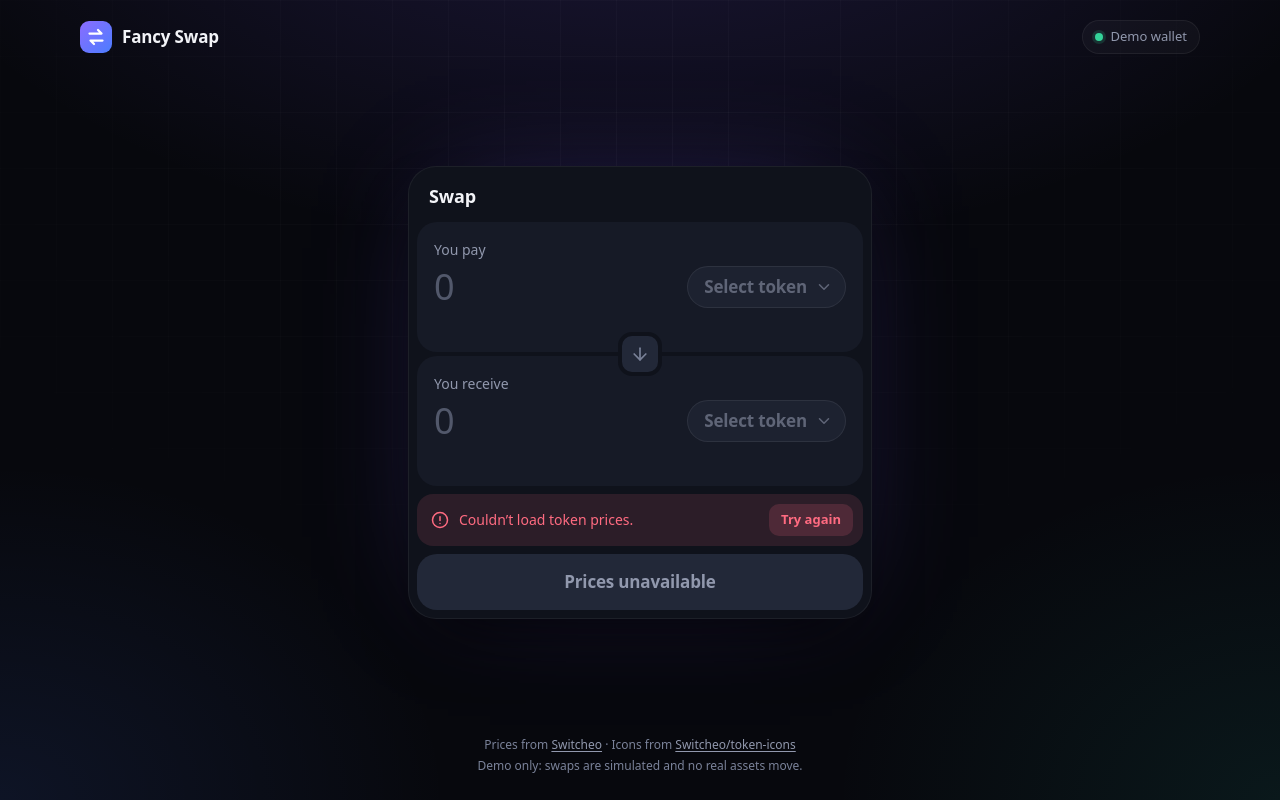
Test case: swap form › offers a retry when prices fail to load
Expected: the message shows "Couldn’t load token prices.", [459,510,633,529]
Click the button "Try again": (811, 520) [769,504,853,536]
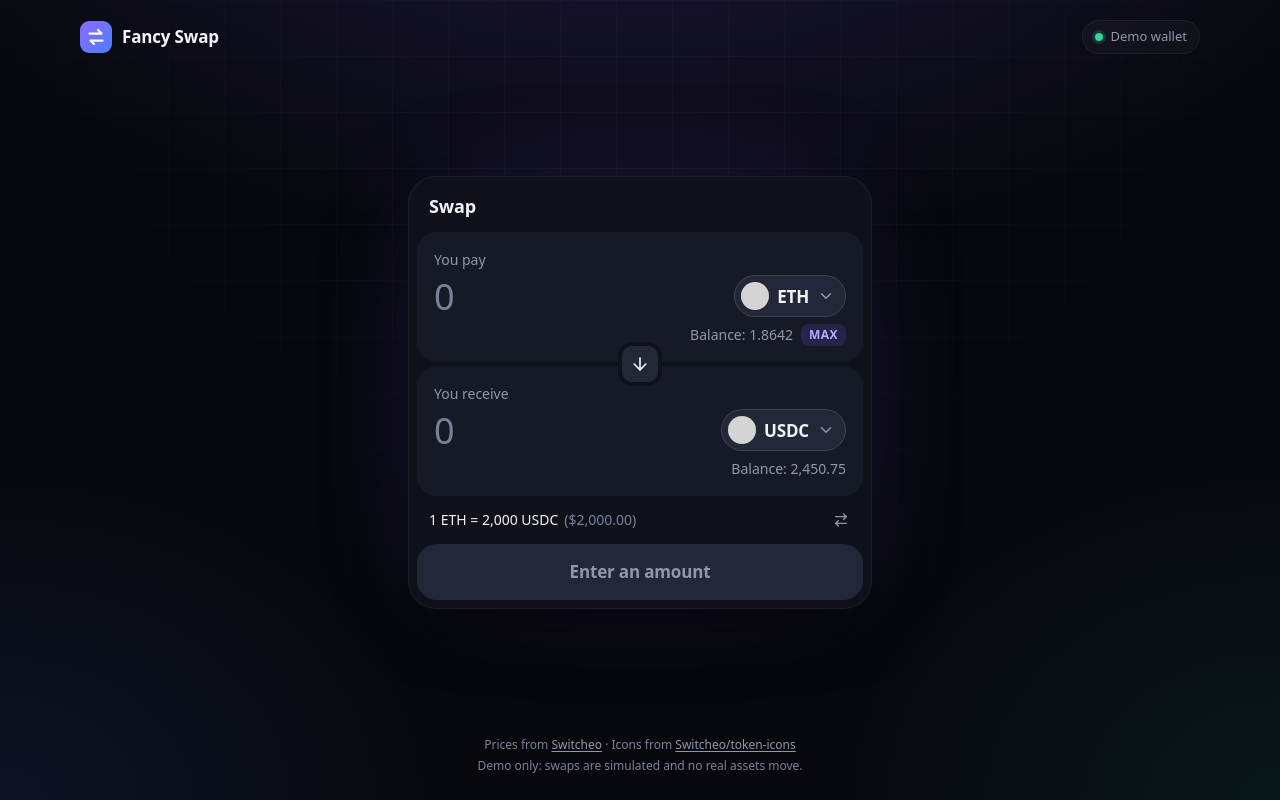
Expected: the button with aria-label "ETH, change token to pay with" is shown, [734,275,846,317]
